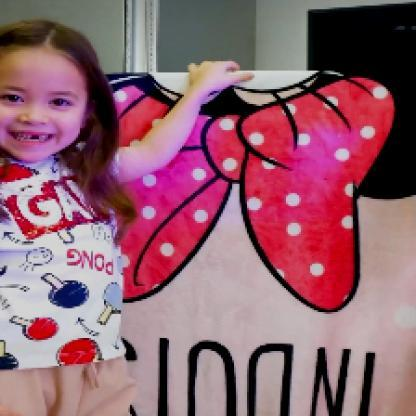child: (1, 20, 259, 416)
